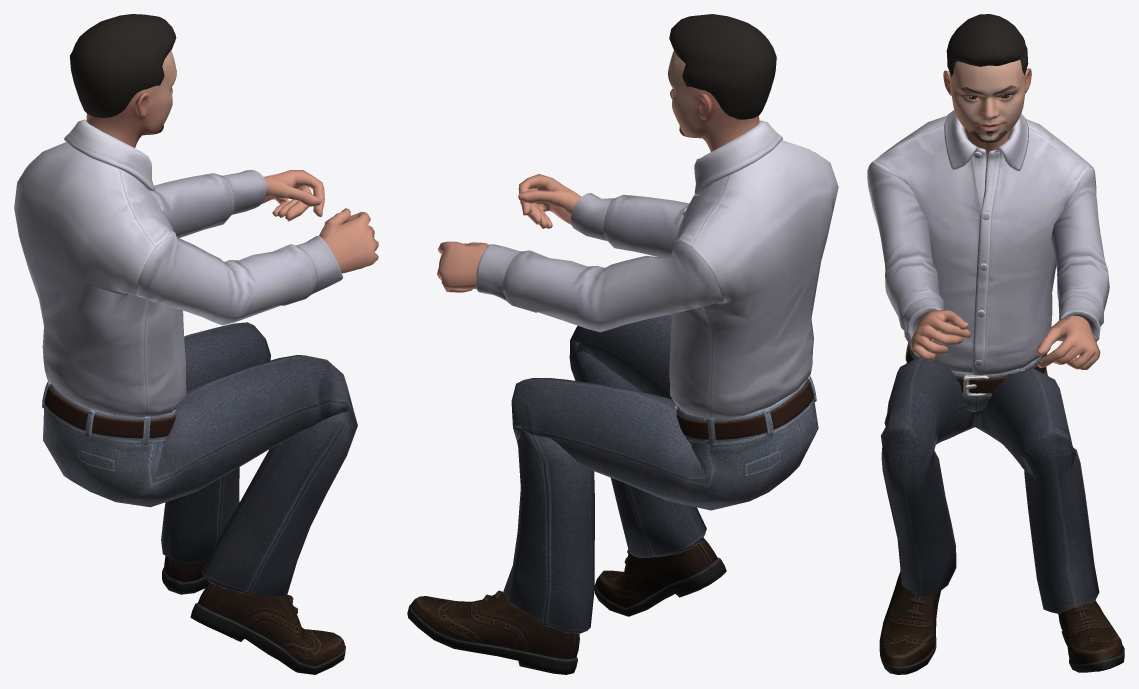
File: person1.fbx
3 views of the same model, side by side, from view 1: azimuth 30°, elevation 25°; view 2: azimuth 150°, elevation 25°; view 3: azimuth 270°, elevation 25° (orthographic). The views are drawn at different scales.
Visible parts, largest first — view 1: person1mesh; view 2: person1mesh; view 3: person1mesh.
Part boxes in pixels (bbox=[...]): person1mesh: bbox=[14, 14, 378, 674]; person1mesh: bbox=[407, 14, 838, 674]; person1mesh: bbox=[867, 14, 1124, 674].
Bounding box in the file's own units: 71.95 × 136 × 54.51.
